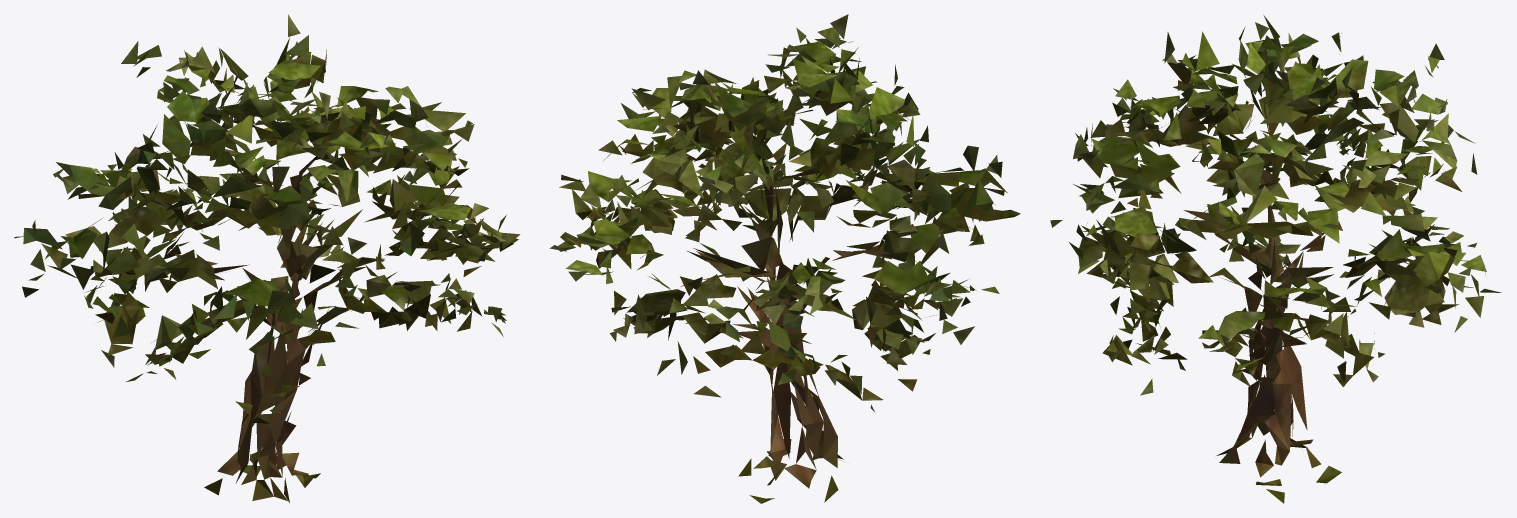
File: tree_acacia.glb
The picture shows the model from 3 angles, left to right: view 1: azimuth 30°, elevation 25°; view 2: azimuth 150°, elevation 25°; view 3: azimuth 270°, elevation 25°; orthographic projection. The views are drawn at different scales.
Parts seen in each view (by area): view 1: geometry_0; view 2: geometry_0; view 3: geometry_0.
Boxes of the visible parts, x1,y1,x2,y2 form: geometry_0: (14, 14, 520, 502); geometry_0: (549, 14, 1020, 503); geometry_0: (1050, 15, 1501, 503).
Bounding box in the file's own units: 1.99 × 1.9 × 1.74.
1 material, 1 textured.
